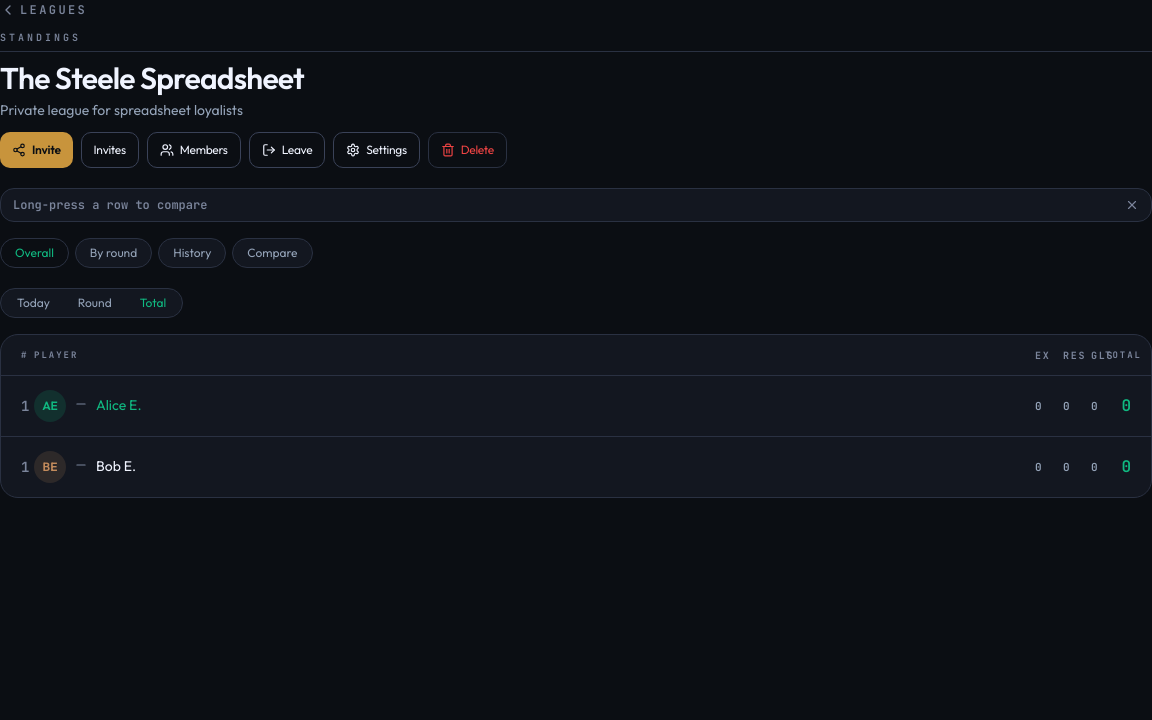
Test: LeaderboardPage › opens the delete confirm dialog for admins
The width and height of the screenshot is (1152, 720).
Click the button "Delete" at (467, 150), box [428, 132, 507, 168]
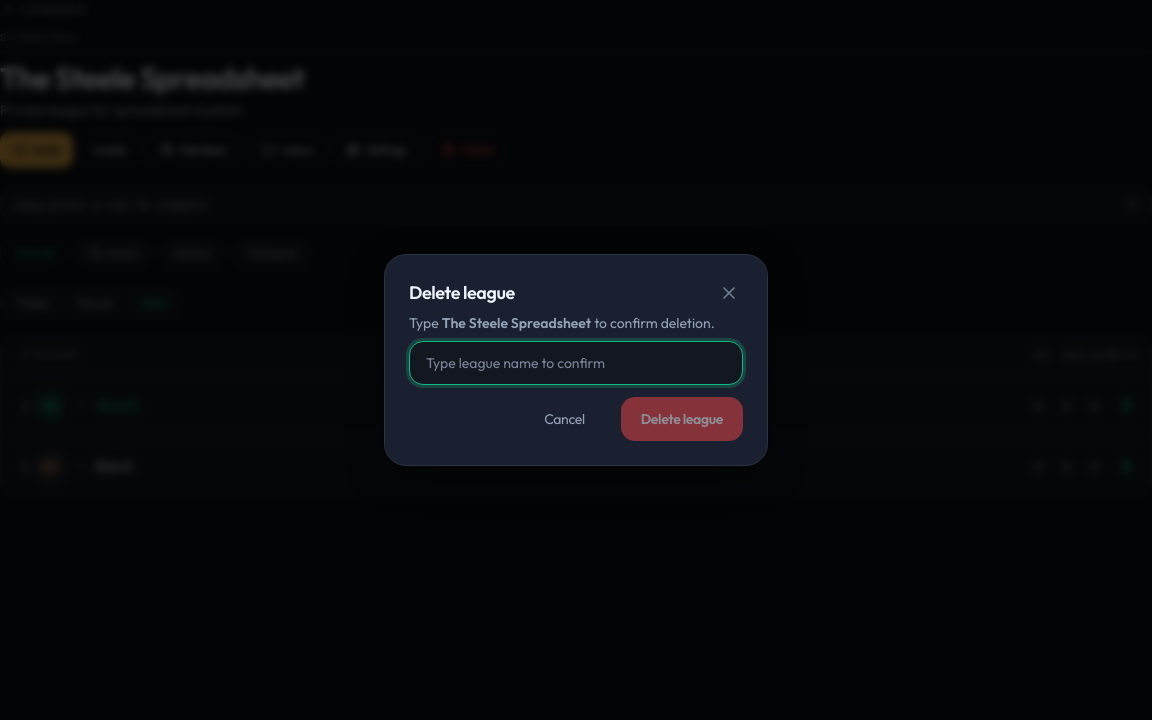
Expected: the dialog "Delete league" is shown, [384, 254, 768, 466]
